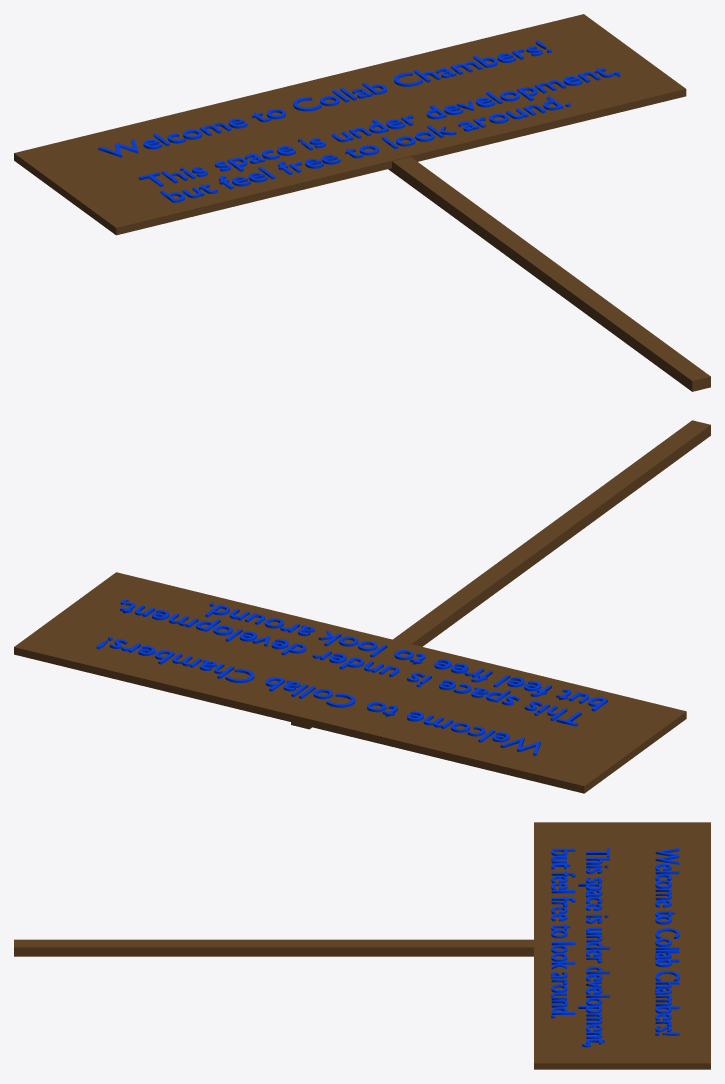
Rendered from Development_sign.glb.
The picture shows the model from 3 angles, top to bottom: view 1: azimuth 30°, elevation 25°; view 2: azimuth 150°, elevation 25°; view 3: azimuth 270°, elevation 25°; orthographic projection. The views are drawn at different scales.
Parts seen in each view (by area): view 1: Cube.001, Text, Cube; view 2: Cube.001, Text, Cube; view 3: Cube.001, Cube, Text.
Boxes of the visible parts, box(x1,y1,x2,y2) form: Cube.001: box(14, 14, 686, 235); Text: box(98, 40, 620, 202); Cube: box(388, 157, 710, 391); Cube.001: box(14, 572, 686, 793); Text: box(96, 599, 607, 755); Cube: box(291, 420, 710, 729); Cube.001: box(534, 822, 710, 1069); Cube: box(14, 939, 533, 956); Text: box(551, 848, 679, 1047).
Size of the model in its own units: 10.87 by 0.2601 by 13.29.
